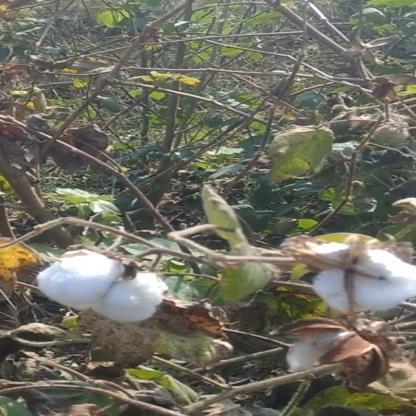cotton_ready: (30, 237, 169, 322), (294, 240, 416, 316)
